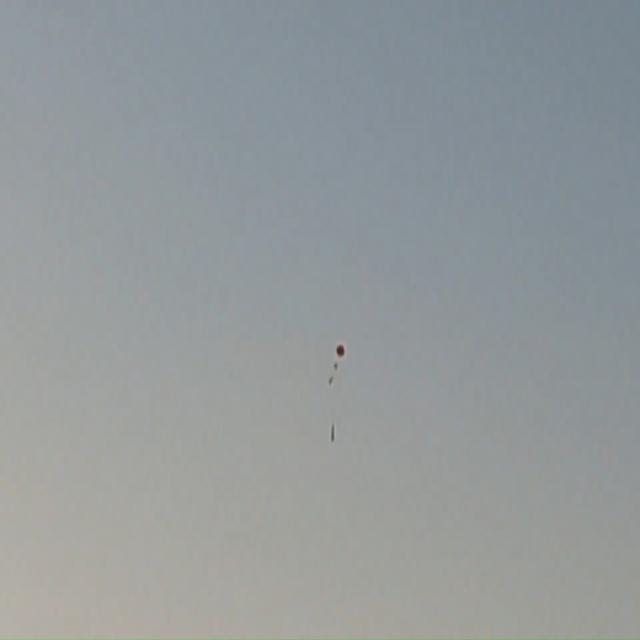Rocket: (331, 422, 335, 443)
